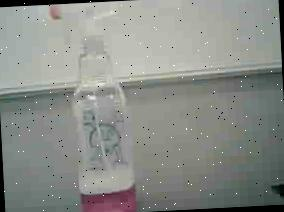hazard: (37, 0, 155, 212)
